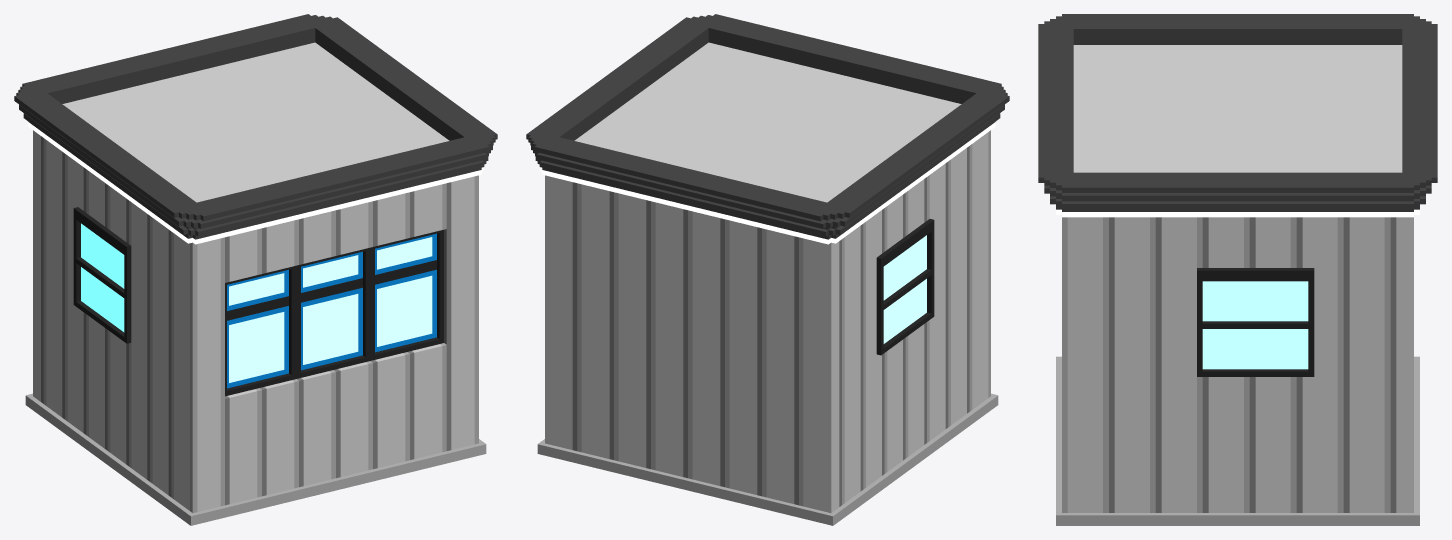
File: typeTen.glb
3 views of the same model, side by side, from view 1: azimuth 30°, elevation 25°; view 2: azimuth 150°, elevation 25°; view 3: azimuth 270°, elevation 25° (orthographic). The views are drawn at different scales.
Parts seen in each view (by area): view 1: ObjObject; view 2: ObjObject; view 3: ObjObject.
Part boxes in pixels (x1,y1,x2,y2): ObjObject: (14, 14, 497, 525); ObjObject: (526, 14, 1009, 525); ObjObject: (1038, 14, 1437, 525).
Size of the model in its own units: 7 by 6.5 by 6.8.
3 materials, 1 textured.
